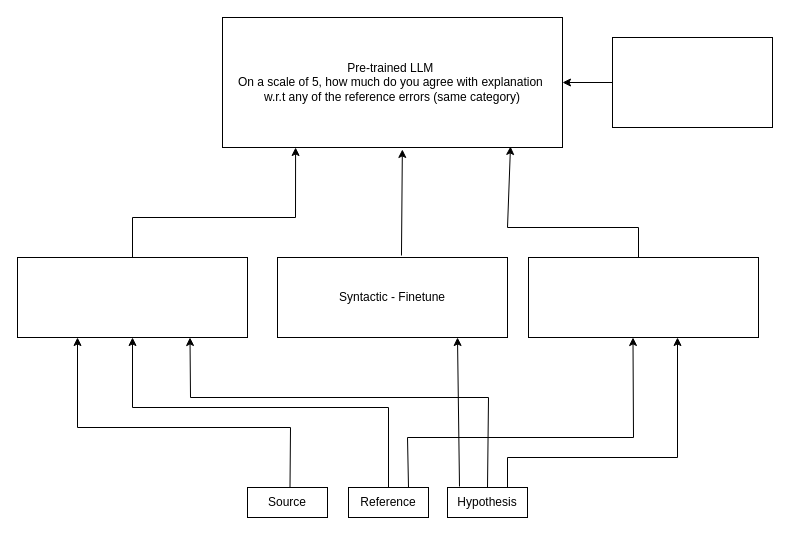
The diagram is 790 pixels wide and 535 high, and some of its shapes have lost their labels. The box of each missing label's shape, as (x1, y1, x2, y2) in pixels:
Lexical - Finetune: (528, 256, 758, 338)
LLM (Semantic) - Fine-tune: (16, 256, 248, 338)
Reference Errors (All categories): (612, 36, 772, 128)
